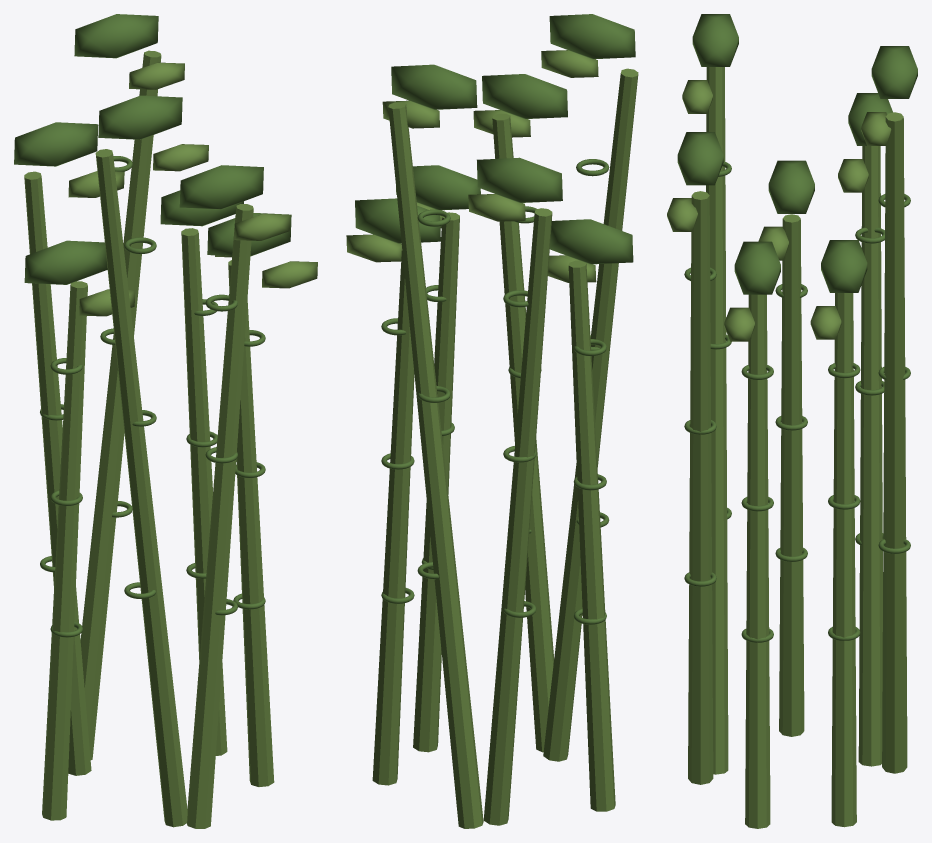
File: tree_bamboo.glb
The picture shows the model from 3 angles, left to right: view 1: azimuth 30°, elevation 25°; view 2: azimuth 150°, elevation 25°; view 3: azimuth 270°, elevation 25°; orthographic projection. The views are drawn at different scales.
Visible parts, largest first — view 1: stalk2, stalk1, stalk3, stalk5, stalk0, stalk4, stalk6, bamboo_leaf1, bamboo_leaf2, bamboo_leaf5, bamboo_leaf4, bamboo_leaf3 (+8 smaller); view 2: stalk5, stalk4, stalk3, stalk2, stalk6, stalk1, stalk0, bamboo_leaf1, bamboo_leaf5, bamboo_leaf2, bamboo_leaf4, bamboo_leaf3 (+8 smaller); view 3: stalk5, stalk4, stalk1, stalk6, stalk0, stalk3, stalk2, bamboo_leaf0, bamboo_leaf3, bamboo_leaf1, bamboo_leaf5, bamboo_leaf6 (+9 smaller).
Boxes of the visible parts, x1,y1,x2,y2 form: stalk2: (95, 149, 187, 827); stalk1: (187, 204, 253, 828); stalk3: (42, 281, 87, 820); stalk5: (80, 50, 161, 759); stalk0: (228, 260, 274, 786); stalk4: (24, 171, 91, 775); stalk6: (181, 228, 227, 755); bamboo_leaf1: (179, 165, 263, 209); bamboo_leaf2: (98, 95, 182, 139); bamboo_leaf5: (74, 14, 158, 58); bamboo_leaf4: (14, 122, 98, 166); bamboo_leaf3: (24, 240, 107, 284); stalk5: (388, 102, 483, 828); stalk4: (483, 208, 552, 825); stalk3: (568, 260, 615, 811); stalk2: (543, 68, 638, 761); stalk6: (372, 249, 414, 785); stalk1: (492, 113, 554, 752); stalk0: (413, 212, 459, 752); bamboo_leaf1: (482, 74, 567, 119); bamboo_leaf5: (391, 64, 477, 109); bamboo_leaf2: (549, 14, 635, 59); bamboo_leaf4: (477, 157, 562, 202); bamboo_leaf3: (550, 219, 633, 264); stalk5: (882, 112, 907, 773); stalk4: (858, 146, 882, 766); stalk1: (688, 191, 713, 784); stalk6: (831, 293, 856, 827); stalk0: (745, 294, 770, 828); stalk3: (779, 214, 804, 736); stalk2: (706, 67, 728, 774); bamboo_leaf0: (734, 241, 780, 294); bamboo_leaf3: (768, 160, 814, 213); bamboo_leaf1: (677, 132, 723, 185); bamboo_leaf5: (871, 46, 917, 98); bamboo_leaf6: (821, 240, 867, 292).
Size of the model in its own units: 1.7 by 4.49 by 1.38.
